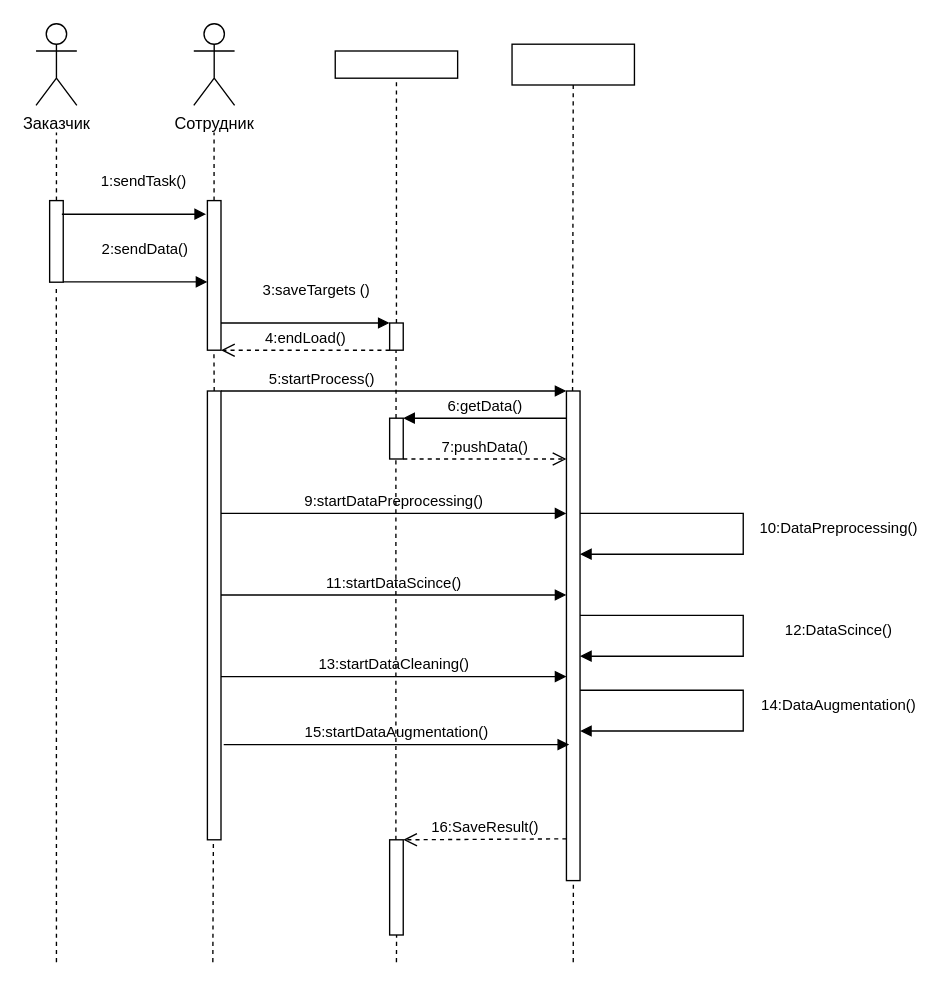
This 941x987 diagram has some shape labels left out. Each missing label, with the centre of its shape:
"DataPreparation" belongs at [572,64].
"System" belongs at [396,64].
